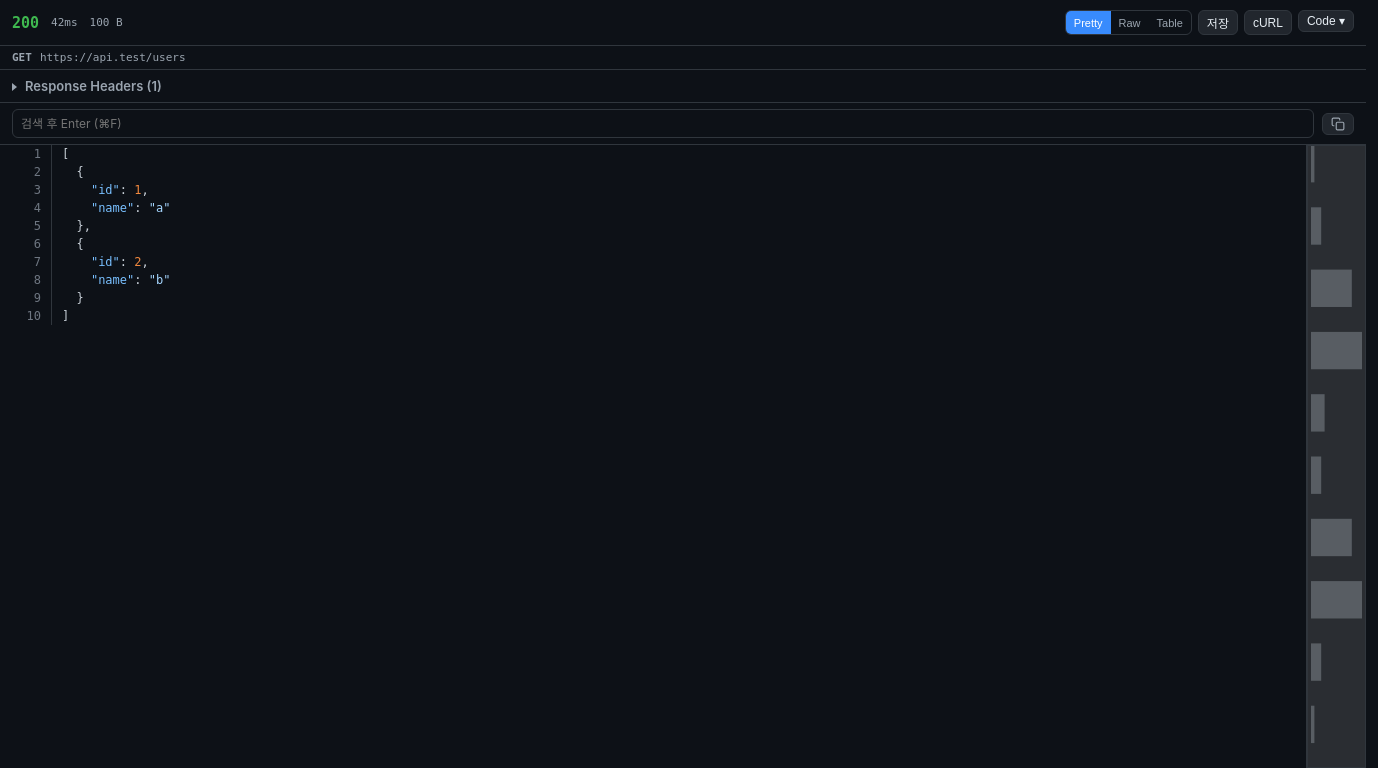
Test case: ResponseView 뷰 모드 › 객체 배열 응답은 Table 버튼으로 표를 렌더한다
The width and height of the screenshot is (1378, 768).
Click the button "Table" at (1170, 22), box [1148,11,1191,34]
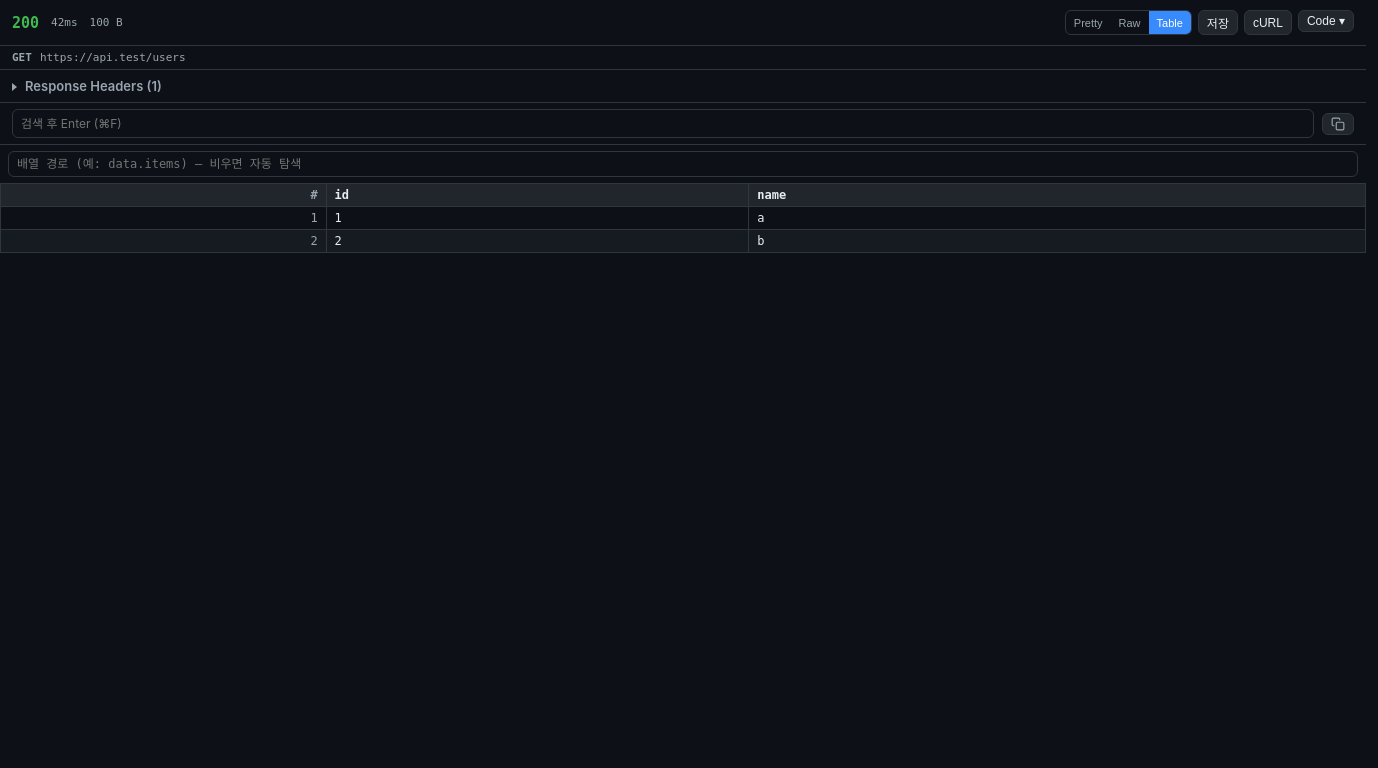
Now the table with class "resp-table" is shown, box [0,183,1366,253]
Now the number of column headings is 3, box [0,184,326,206]; [326,184,749,206]; [749,184,1366,206]
